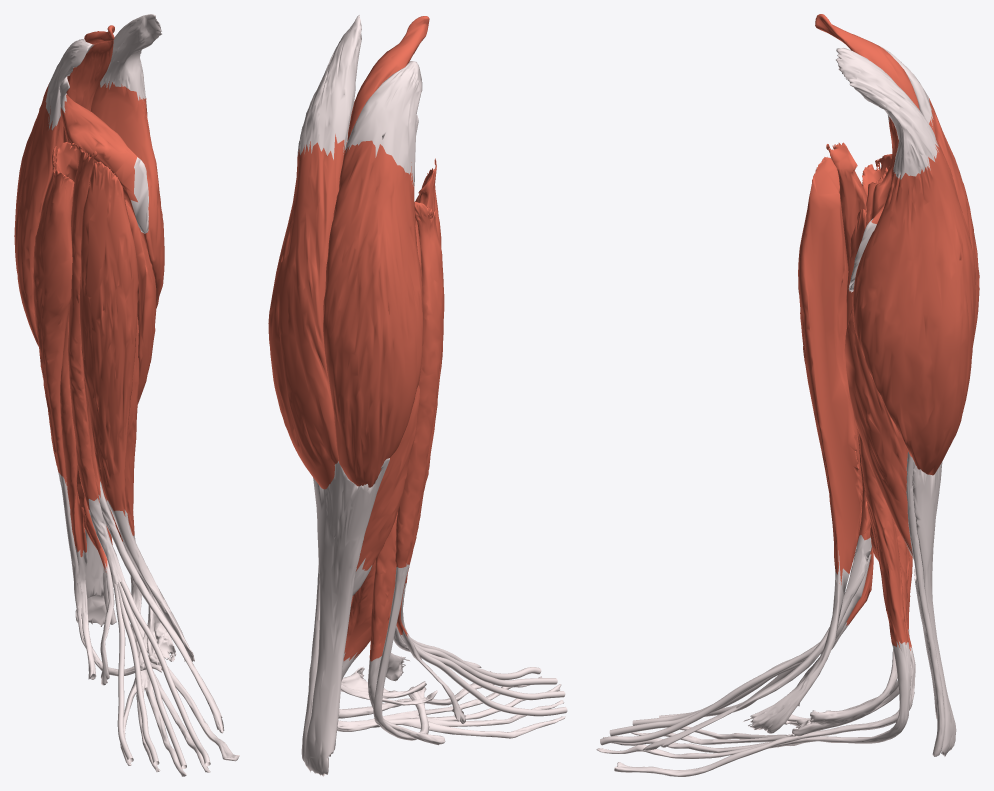
The model's file is muscles.glb.
The picture shows the model from 3 angles, left to right: view 1: azimuth 30°, elevation 25°; view 2: azimuth 150°, elevation 25°; view 3: azimuth 270°, elevation 25°; orthographic projection. The views are drawn at different scales.
Visible parts, largest first — view 1: Tibialis anterior muscle.r, Fibularis longus muscle.r, Medial head of gastrocnemius.r, Lateral head of gastrocnemius.r, Extensor digitorum longus.r, Tendon of extensor digitorum longus.r, Popliteus muscle.r, Flexor digitorum longus.r, Soleus muscle.r, Fibularis brevis muscle.r, Extensor hallucis longus.r, Plantaris muscle.r (+4 smaller); view 2: Lateral head of gastrocnemius.r, Medial head of gastrocnemius.r, Calcaneal tendon.r, Fibularis longus muscle.r, Soleus muscle.r, Tendon of extensor digitorum longus.r, Flexor digitorum longus.r, Plantaris muscle.r, Fibularis brevis muscle.r, Flexor hallucis longus.r, Tibialis posterior muscle.r, Fibularis tertius muscle.r (+2 smaller); view 3: Medial head of gastrocnemius.r, Tibialis anterior muscle.r, Flexor digitorum longus.r, Soleus muscle.r, Plantaris muscle.r, Calcaneal tendon.r, Tendon of extensor digitorum longus.r, Flexor hallucis longus.r, Extensor hallucis longus.r, Tibialis posterior muscle.r, Extensor digitorum longus.r, Lateral head of gastrocnemius.r (+3 smaller).
Part boxes in pixels (box(x1,y1,x2,y2)): Tibialis anterior muscle.r: box(79, 161, 194, 661); Fibularis longus muscle.r: box(33, 146, 162, 676); Medial head of gastrocnemius.r: box(90, 14, 164, 309); Lateral head of gastrocnemius.r: box(14, 39, 94, 346); Extensor digitorum longus.r: box(67, 150, 124, 584); Tendon of extensor digitorum longus.r: box(113, 580, 210, 768); Popliteus muscle.r: box(59, 77, 148, 233); Flexor digitorum longus.r: box(120, 317, 210, 776); Soleus muscle.r: box(40, 142, 156, 404); Fibularis brevis muscle.r: box(60, 311, 96, 679); Extensor hallucis longus.r: box(84, 378, 224, 733); Plantaris muscle.r: box(63, 25, 116, 624); Lateral head of gastrocnemius.r: box(323, 61, 423, 487); Medial head of gastrocnemius.r: box(268, 15, 361, 489); Calcaneal tendon.r: box(304, 458, 389, 776); Fibularis longus muscle.r: box(373, 202, 444, 740); Soleus muscle.r: box(352, 218, 421, 595); Tendon of extensor digitorum longus.r: box(404, 637, 567, 716); Flexor digitorum longus.r: box(308, 663, 565, 738); Plantaris muscle.r: box(301, 16, 429, 761); Fibularis brevis muscle.r: box(368, 512, 445, 745); Flexor hallucis longus.r: box(338, 559, 494, 718); Tibialis posterior muscle.r: box(340, 595, 437, 705); Fibularis tertius muscle.r: box(396, 597, 465, 723); Medial head of gastrocnemius.r: box(836, 48, 975, 475); Tibialis anterior muscle.r: box(743, 157, 862, 733); Flexor digitorum longus.r: box(596, 430, 911, 758); Soleus muscle.r: box(844, 157, 913, 559); Plantaris muscle.r: box(815, 14, 944, 756); Calcaneal tendon.r: box(912, 461, 956, 756); Tendon of extensor digitorum longus.r: box(600, 640, 835, 745); Flexor hallucis longus.r: box(614, 522, 915, 776); Extensor hallucis longus.r: box(643, 436, 871, 750); Tibialis posterior muscle.r: box(784, 209, 897, 736); Extensor digitorum longus.r: box(826, 142, 872, 639); Lateral head of gastrocnemius.r: box(878, 45, 979, 344).
Bounding box in the file's own units: 0.1094 × 0.5027 × 0.2348.
